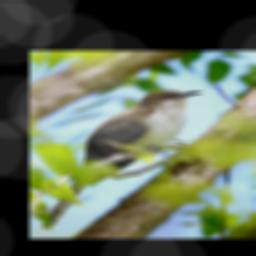Cuckoo: (38, 88, 203, 230)
